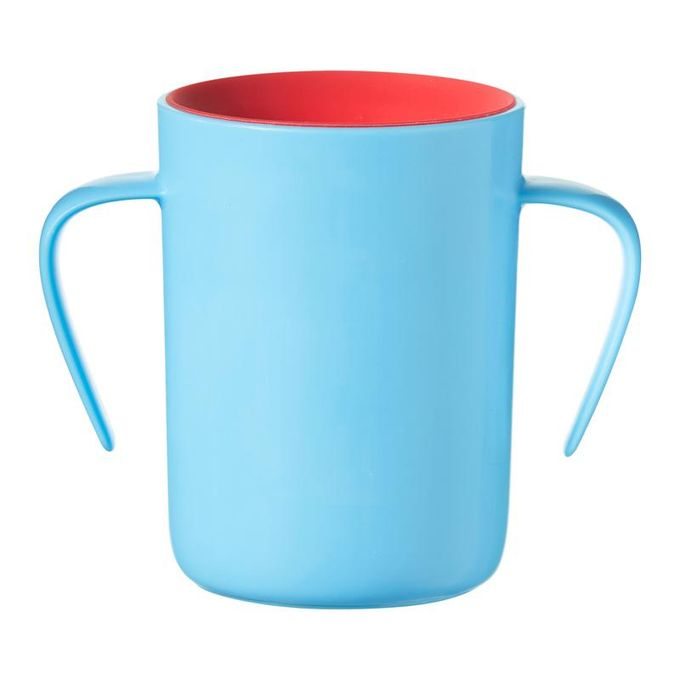cup: (36, 69, 645, 610)
